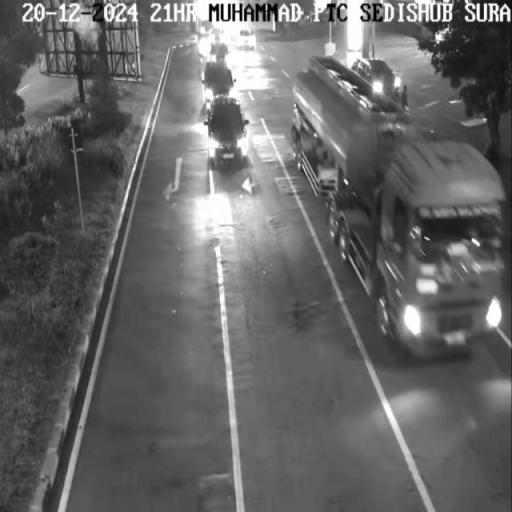car: (202, 91, 252, 182), (357, 56, 407, 94), (202, 59, 234, 104), (202, 36, 236, 69), (239, 24, 261, 54)
truck: (334, 148, 502, 360)
